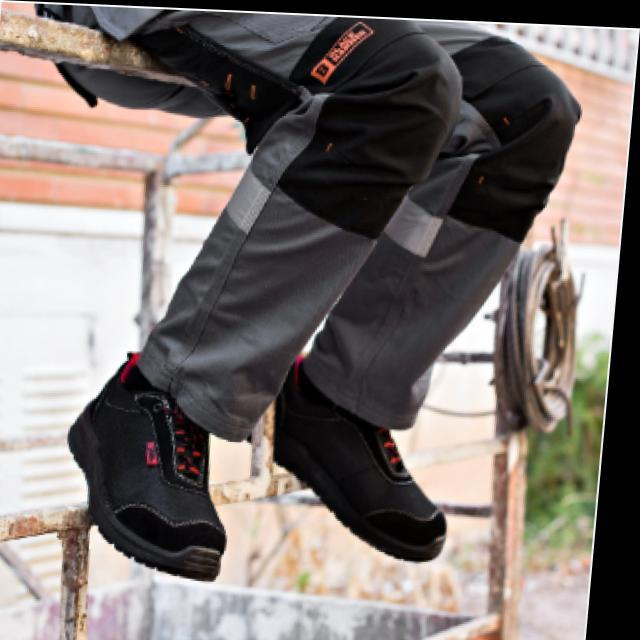shoes: (49, 335, 467, 595)
